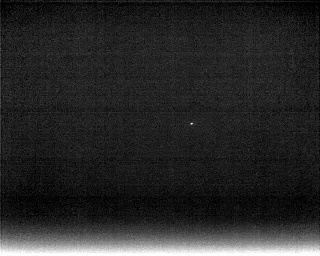AIRPLANE: (188, 119, 196, 128)
